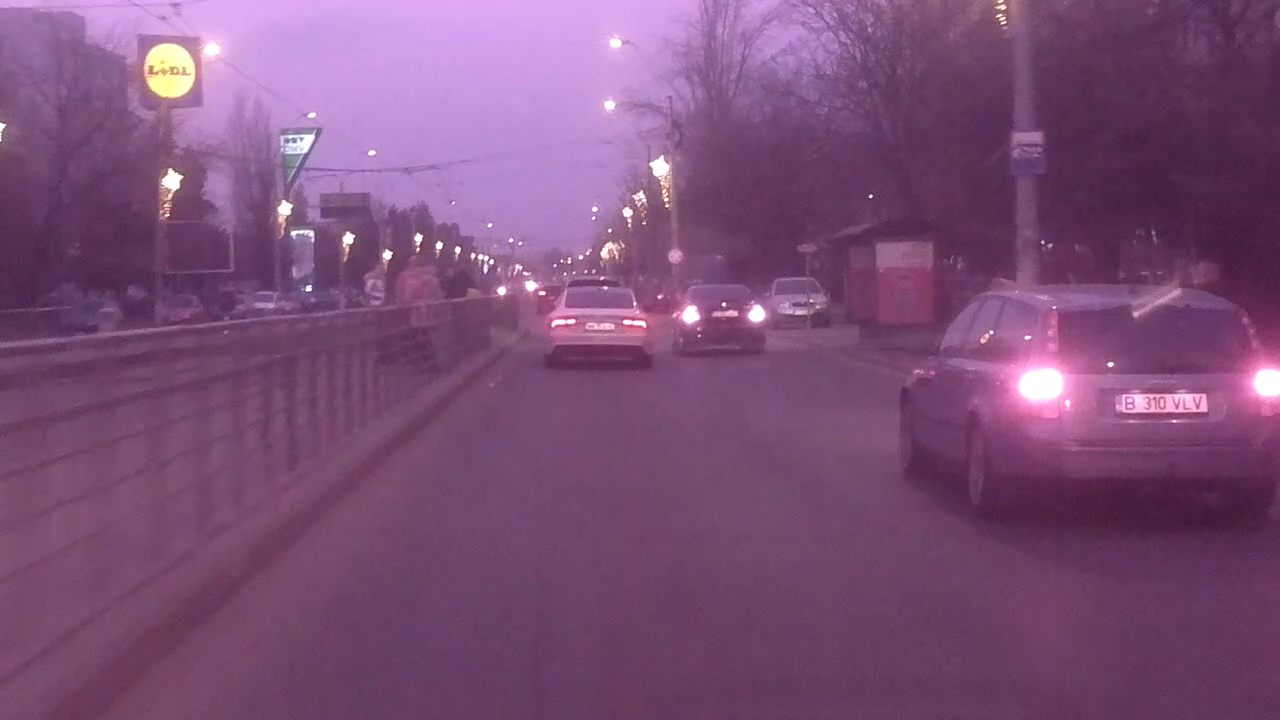license-plate: (1109, 387, 1213, 419)
